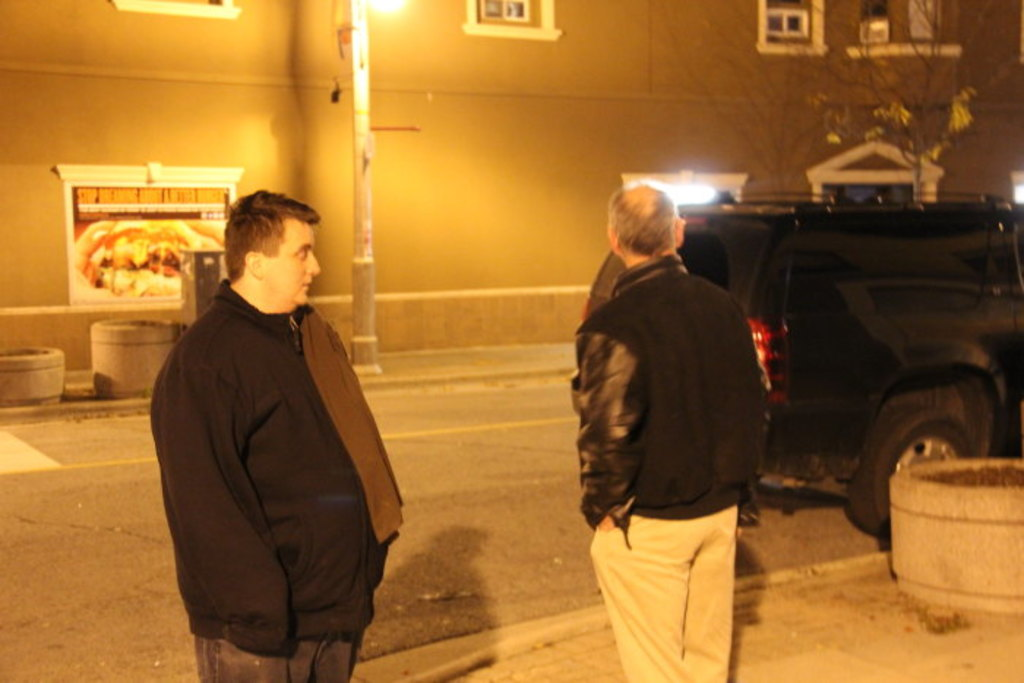Car: (582, 193, 1022, 523)
